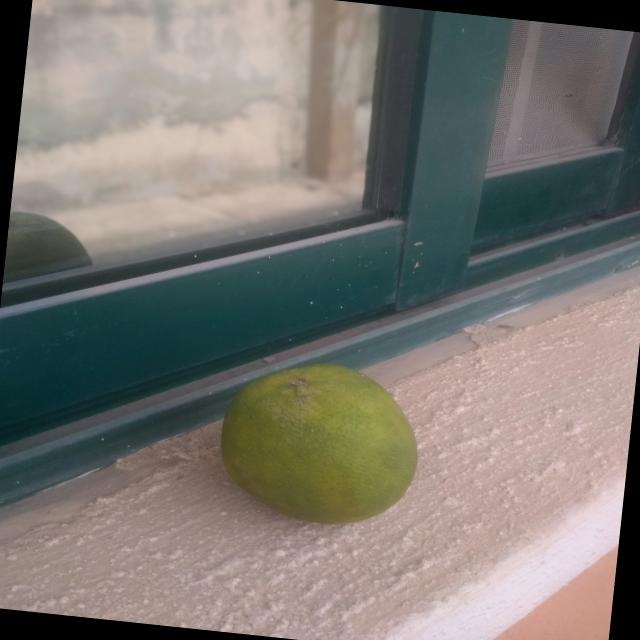agrume: (166, 330, 454, 545)
